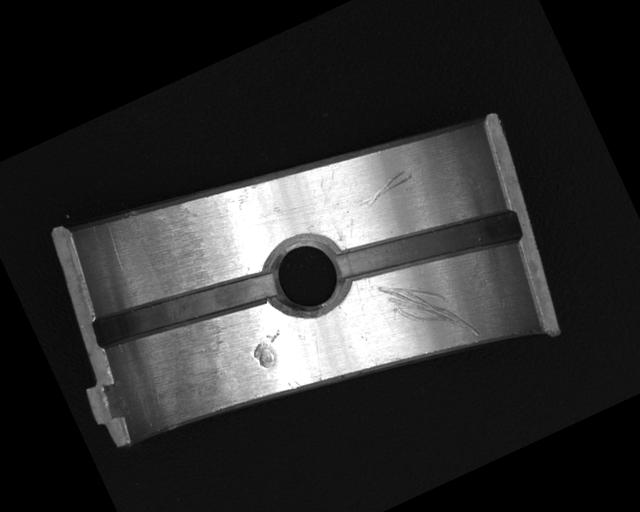bruise: (247, 328, 292, 373)
gap: (333, 180, 525, 312), (89, 245, 277, 368)
hole: (253, 222, 359, 331)
nick: (376, 255, 479, 364), (355, 165, 417, 210)
